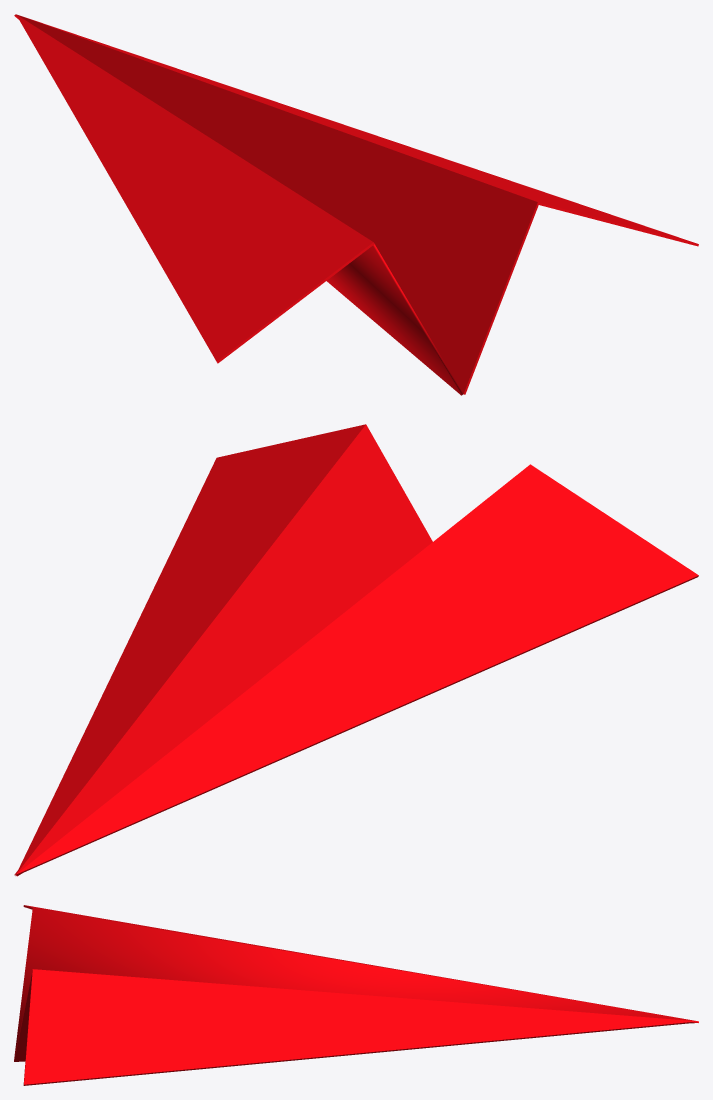
File: PaperPlane.glb
3 views of the same model, one above another, from view 1: azimuth 30°, elevation 25°; view 2: azimuth 150°, elevation 25°; view 3: azimuth 270°, elevation 25° (orthographic). The views are drawn at different scales.
Visible parts, largest first — view 1: Plane; view 2: Plane; view 3: Plane.
Boxes of the visible parts, bbox=[...] form: Plane: bbox=[14, 14, 698, 395]; Plane: bbox=[14, 424, 698, 876]; Plane: bbox=[14, 905, 698, 1085].
Bounding box in the file's own units: 5.63 × 1.82 × 9.06.
